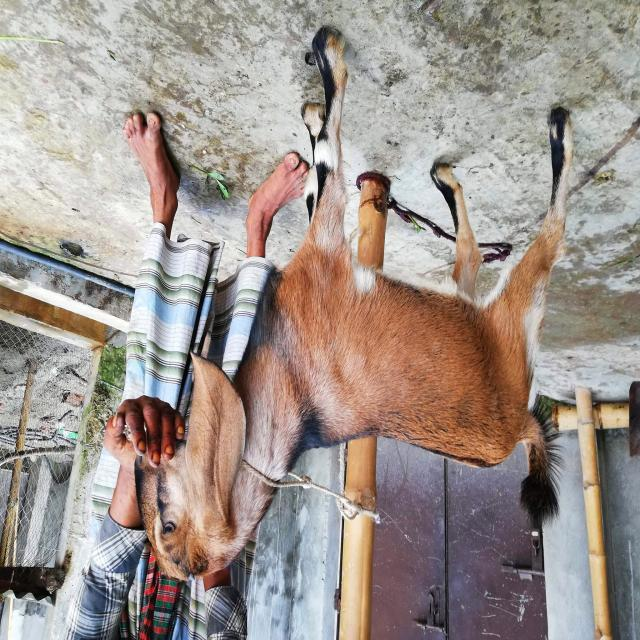Goat: (133, 26, 575, 584)
